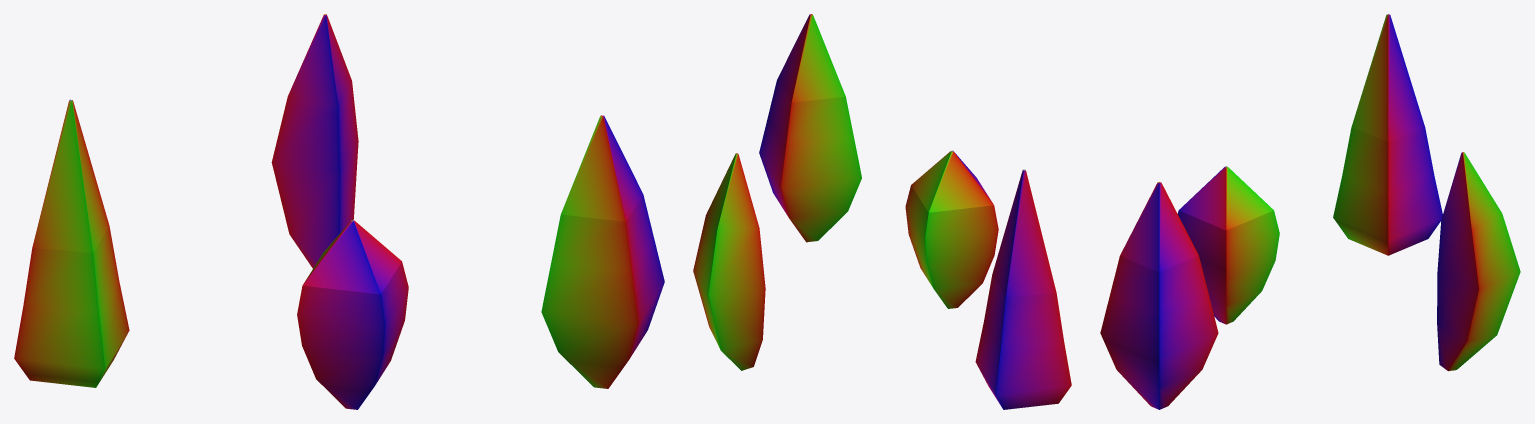
The model's file is SM_Grass_Clump_03.fbx.
The picture shows the model from 3 angles, left to right: view 1: azimuth 30°, elevation 25°; view 2: azimuth 150°, elevation 25°; view 3: azimuth 270°, elevation 25°; orthographic projection. The views are drawn at different scales.
Parts seen in each view (by area): view 1: grass_clump_03_geo; view 2: grass_clump_03_geo; view 3: grass_clump_03_geo.
Part boxes in pixels (left/top/right/bottom): grass_clump_03_geo: left=14, top=14, right=664, bottom=409; grass_clump_03_geo: left=693, top=14, right=1071, bottom=409; grass_clump_03_geo: left=1100, top=14, right=1520, bottom=409.
Bounding box in the file's own units: 72.47 × 38.26 × 62.03.
